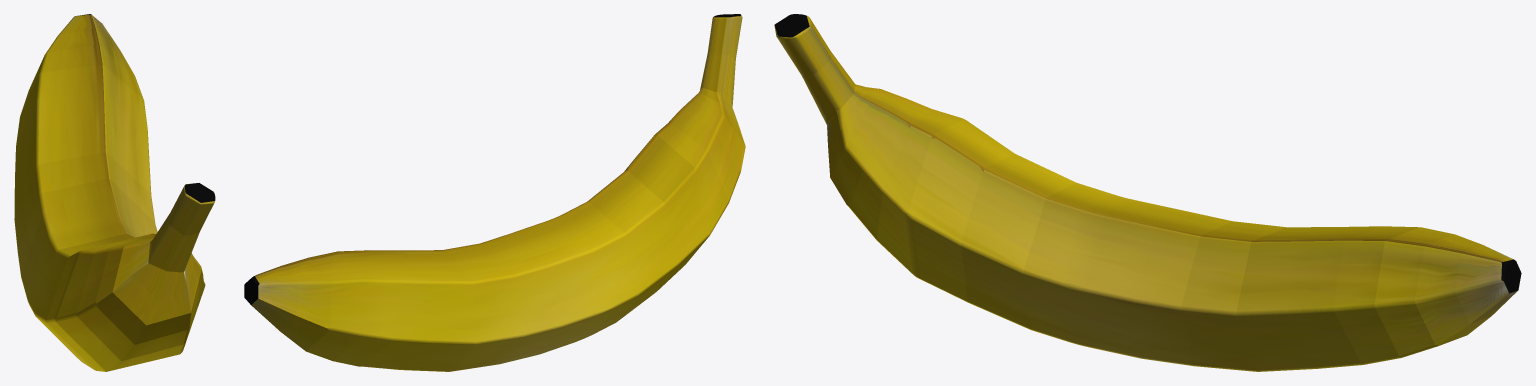
The model's file is banana.glb.
3 renders of one model, left to right at view 1: azimuth 30°, elevation 25°; view 2: azimuth 150°, elevation 25°; view 3: azimuth 270°, elevation 25°, orthographic. The views are drawn at different scales.
Visible parts, largest first — view 1: banana; view 2: banana; view 3: banana.
Part boxes in pixels (box(x1,y1,x2,y2)): banana: box(14, 14, 215, 371); banana: box(244, 14, 745, 371); banana: box(774, 14, 1521, 371).
Size of the model in its own units: 2.17 by 1.98 by 4.45.
Materials: 1 (1 with a texture image).
